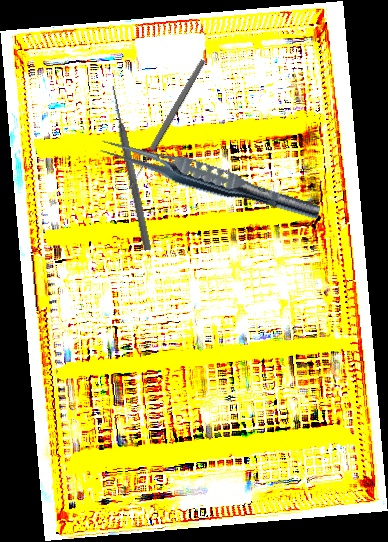Pusher: (107, 83, 154, 252)
Surgical Spoon: (126, 58, 207, 190)
Tissue Forceps: (96, 133, 324, 225)
